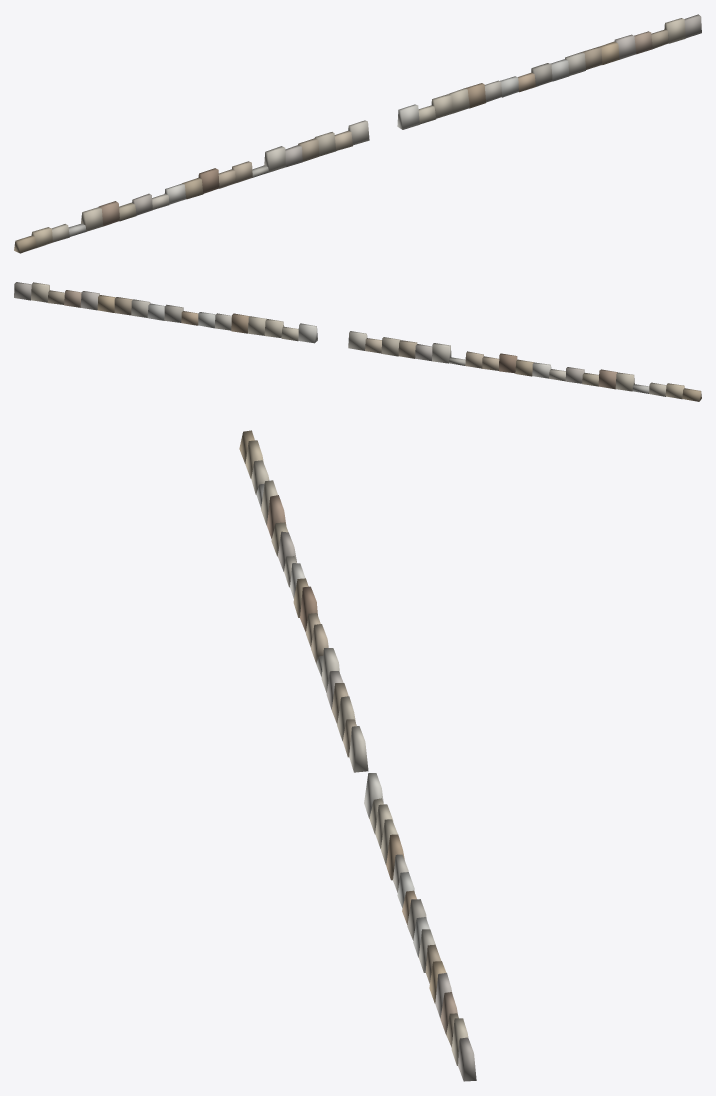
The model's file is farm_12_20_far.glb.
The picture shows the model from 3 angles, top to bottom: view 1: azimuth 30°, elevation 25°; view 2: azimuth 150°, elevation 25°; view 3: azimuth 270°, elevation 25°; orthographic projection. The views are drawn at different scales.
Visible parts, largest first — view 1: geometry_0; view 2: geometry_0; view 3: geometry_0.
Boxes of the visible parts, box(x1,y1,x2,y2) form: geometry_0: box(14, 14, 701, 253); geometry_0: box(14, 282, 701, 401); geometry_0: box(239, 430, 476, 1081).
Size of the model in its own units: 63.67 by 2.24 by 10.38.
